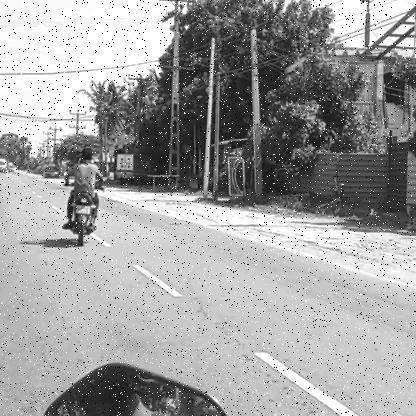motorcycle: (62, 189, 100, 249)
